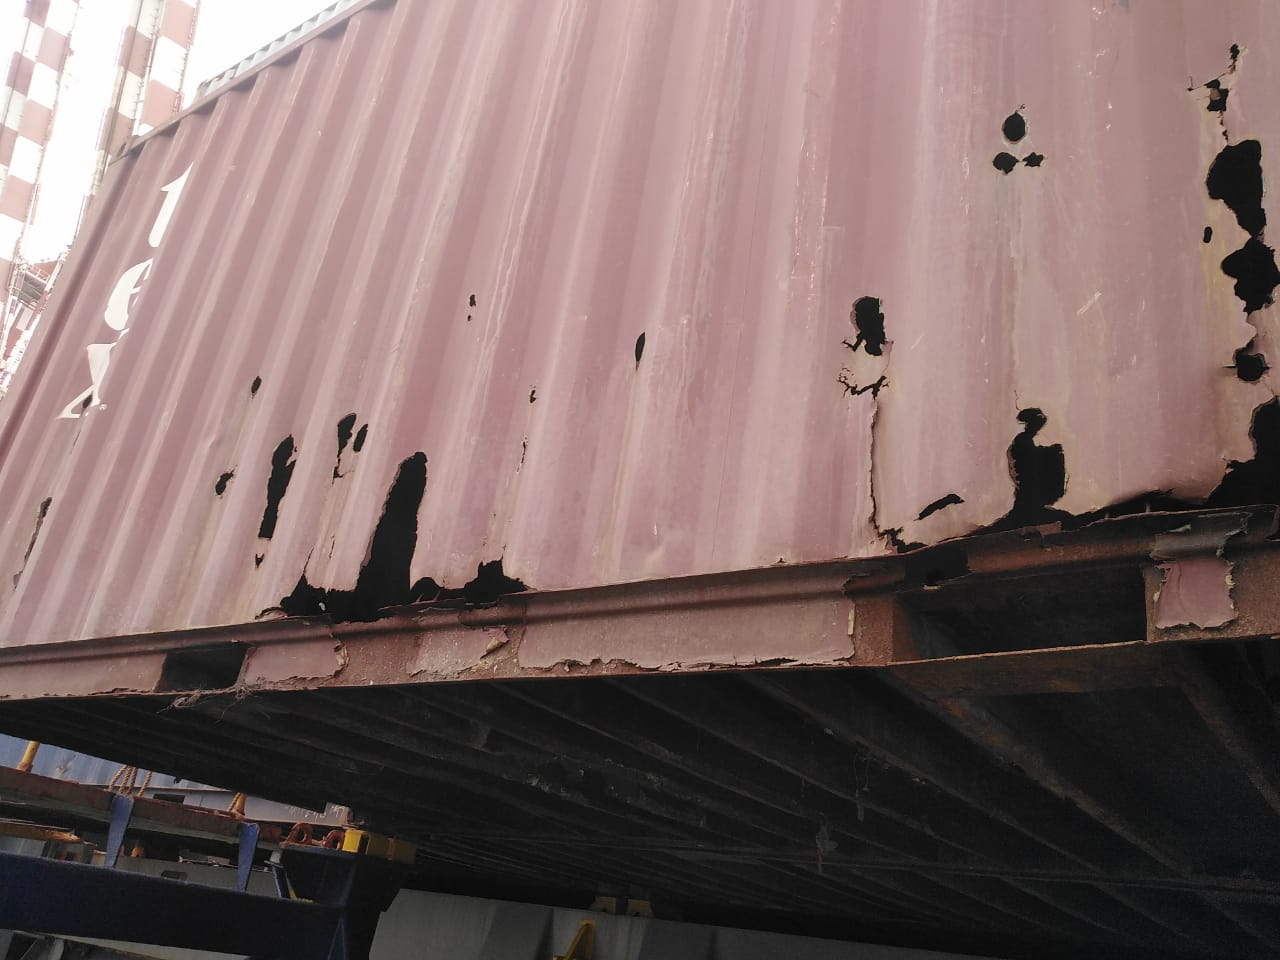cut: (1161, 16, 1280, 492), (839, 388, 1147, 554), (266, 446, 540, 589)
hole: (818, 277, 918, 379), (243, 428, 309, 554), (971, 102, 1061, 189), (1, 492, 68, 588), (311, 404, 385, 485), (625, 322, 658, 369), (196, 468, 238, 504), (456, 284, 488, 324), (515, 384, 561, 410), (243, 371, 271, 413)
